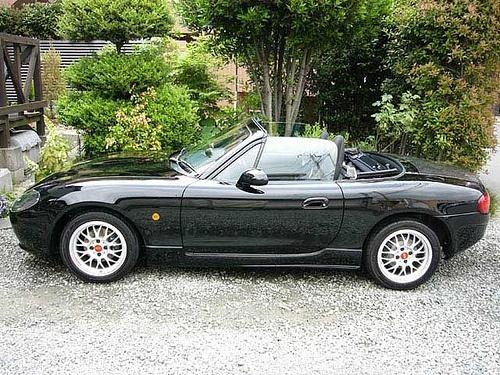car: (8, 114, 491, 292)
